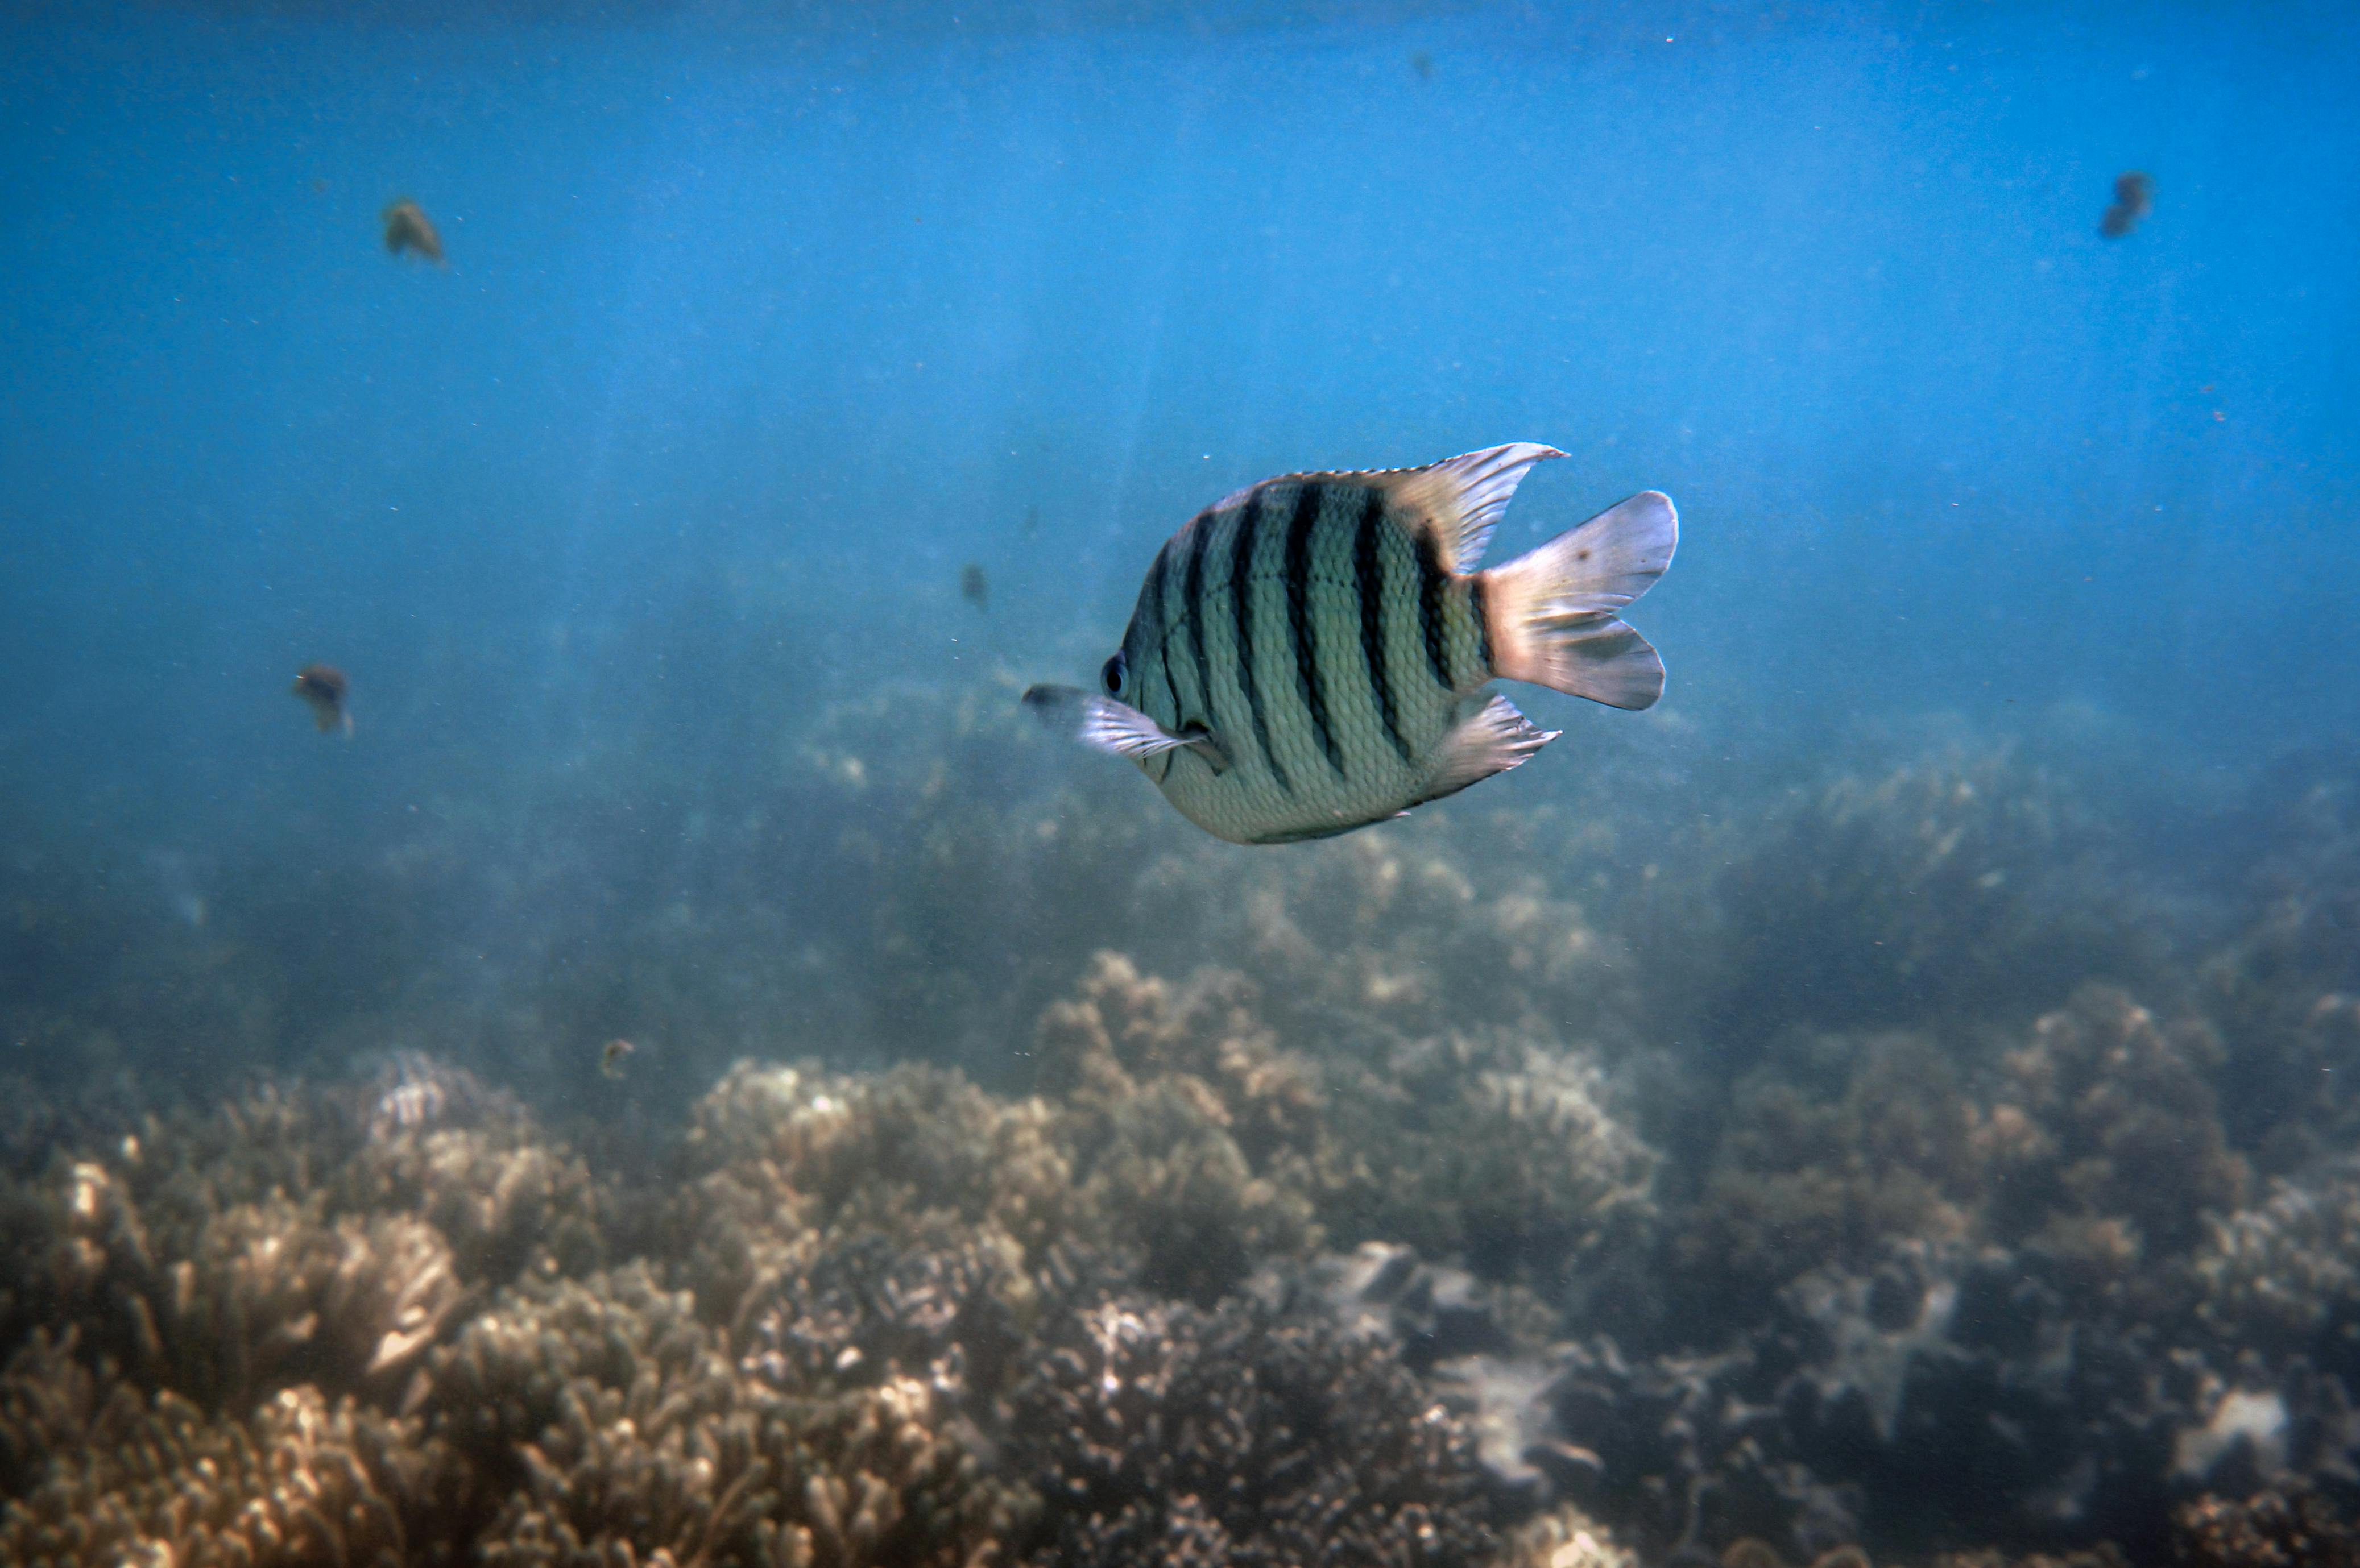fishRound: (1019, 439, 1688, 849)
